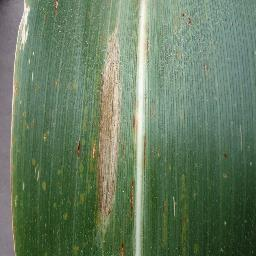Corn_Blight: (90, 18, 118, 231), (123, 106, 152, 160), (13, 3, 37, 57), (127, 174, 143, 216), (70, 126, 85, 166), (114, 239, 139, 256), (51, 0, 63, 21)
